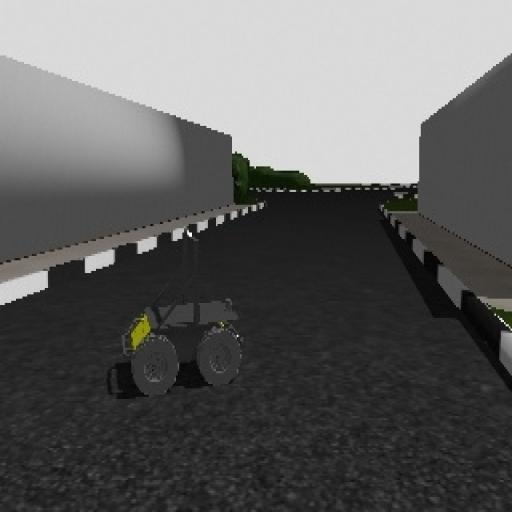huskya200: (106, 209, 254, 411)
